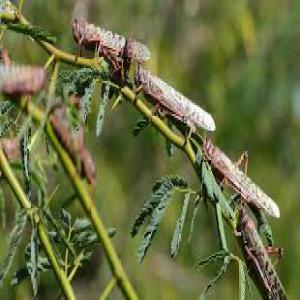locust: (206, 137, 279, 209), (143, 65, 216, 132), (70, 11, 150, 66)
